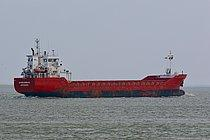Ship: (12, 37, 193, 100)
